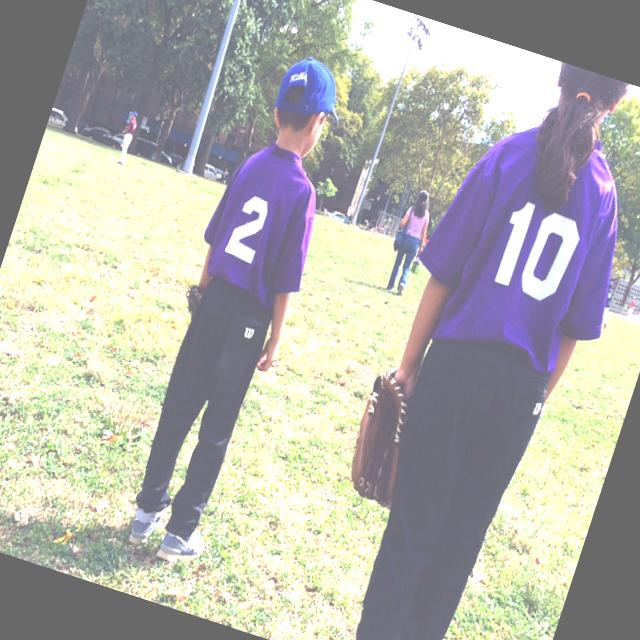Vehicle: (78, 121, 116, 148), (108, 130, 127, 152), (202, 165, 224, 182)
